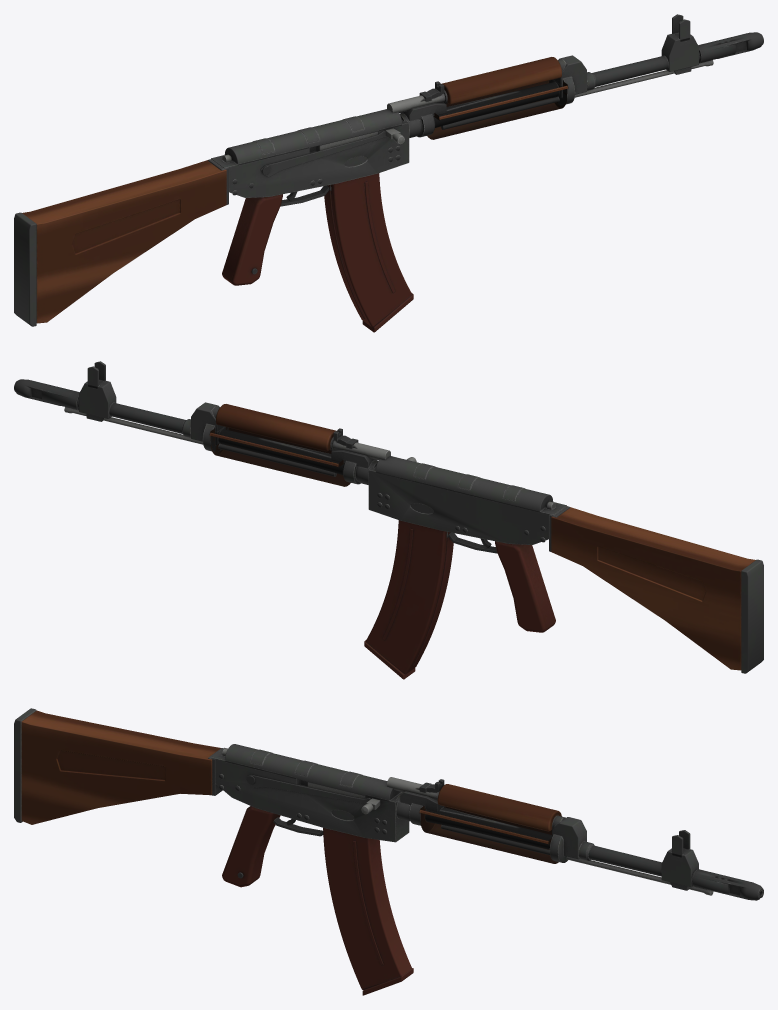
The picture shows the model from 3 angles, top to bottom: view 1: azimuth 30°, elevation 25°; view 2: azimuth 150°, elevation 25°; view 3: azimuth 330°, elevation 25°; orthographic projection.
Visible parts, largest first — view 1: receiver.001, magazine, selector, bolt_carrier; view 2: receiver.001, magazine, bolt_carrier; view 3: receiver.001, magazine, selector, bolt_carrier.
Part boxes in pixels (<box>): receiver.001: <box>14,14,763,326</box>; magazine: <box>324,173,413,332</box>; selector: <box>260,131,386,177</box>; bolt_carrier: <box>316,93,445,151</box>; receiver.001: <box>14,361,763,673</box>; magazine: <box>364,520,453,679</box>; bolt_carrier: <box>332,440,390,459</box>; receiver.001: <box>14,708,763,900</box>; magazine: <box>323,828,413,995</box>; selector: <box>246,774,370,803</box>; bolt_carrier: <box>307,777,439,800</box>.
Bounding box in the file's own units: 0.988 × 0.3 × 0.0664.
Materials: 1 (1 with a texture image).
